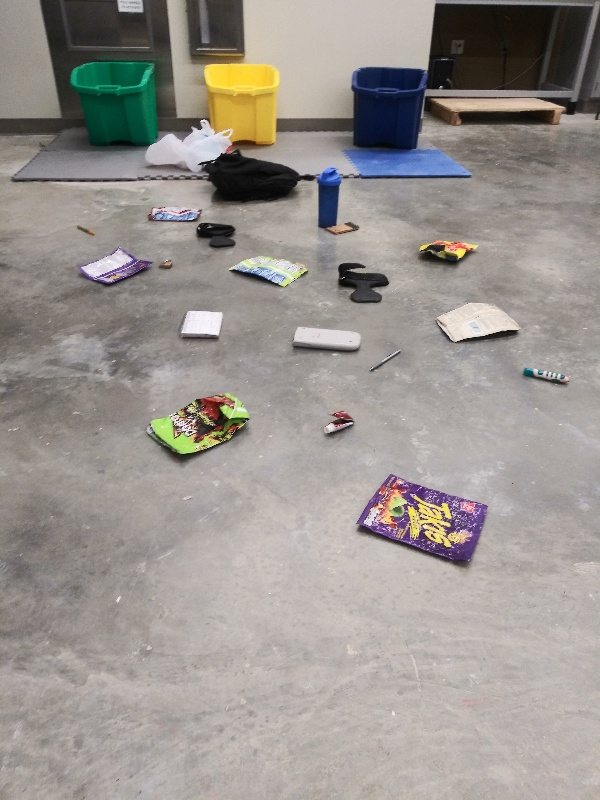bag: (351, 472, 493, 567), (137, 390, 258, 468), (423, 296, 527, 348), (73, 244, 155, 292), (226, 250, 311, 292), (408, 235, 484, 266), (145, 202, 202, 225)
